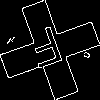F: (25, 25, 69, 78)
